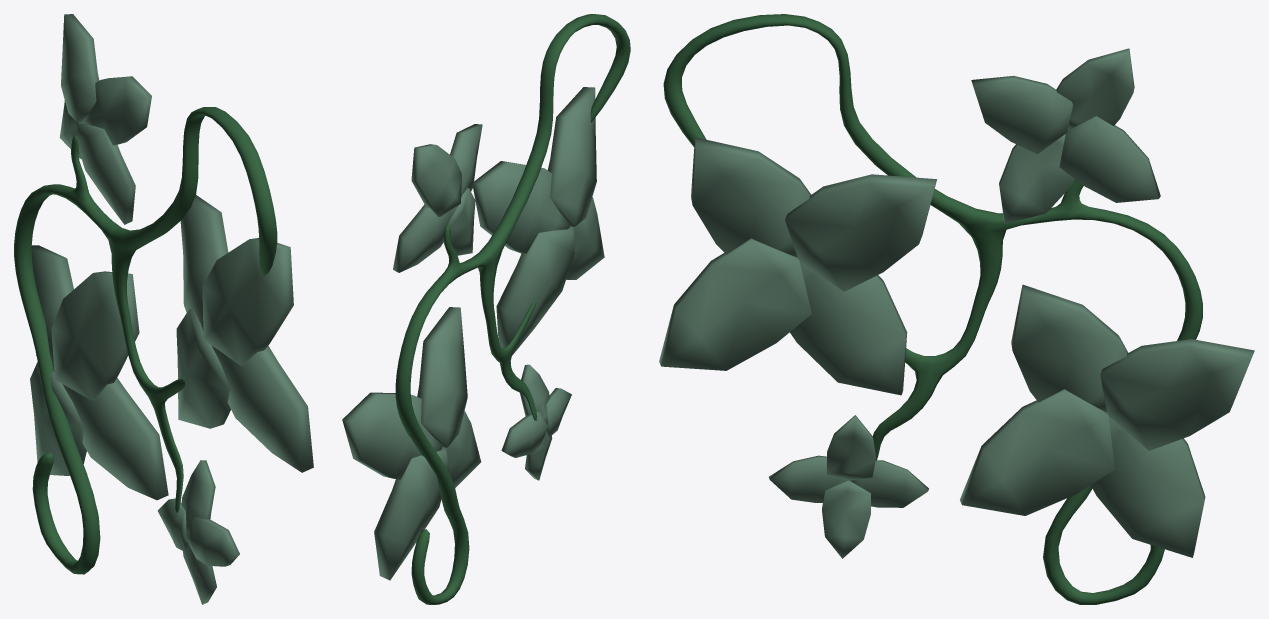
Rendered from WallPlant.fbx.
The picture shows the model from 3 angles, left to right: view 1: azimuth 30°, elevation 25°; view 2: azimuth 150°, elevation 25°; view 3: azimuth 270°, elevation 25°; orthographic projection. The views are drawn at different scales.
Parts seen in each view (by area): view 1: Flower.002, Vine, Flower, Flower.003, Flower.001; view 2: Flower.002, Flower, Vine, Flower.003, Flower.001; view 3: Flower.002, Flower, Vine, Flower.003, Flower.001.
Boxes of the visible parts, x1=… form: Flower.002: x1=176, y1=195, x2=313, y2=472; Vine: x1=14, y1=107, x2=277, y2=574; Flower: x1=30, y1=245, x2=168, y2=500; Flower.003: x1=59, y1=14, x2=151, y2=224; Flower.001: x1=157, y1=460, x2=239, y2=604; Flower.002: x1=473, y1=87, x2=604, y2=355; Flower: x1=342, y1=307, x2=481, y2=580; Vine: x1=395, y1=14, x2=630, y2=604; Flower.003: x1=393, y1=124, x2=482, y2=272; Flower.001: x1=501, y1=364, x2=571, y2=480; Flower.002: x1=659, y1=137, x2=936, y2=395; Flower: x1=960, y1=284, x2=1254, y2=557; Vine: x1=663, y1=14, x2=1202, y2=604; Flower.003: x1=971, y1=48, x2=1160, y2=223; Flower.001: x1=769, y1=415, x2=928, y2=558.
Size of the model in its own units: 0.9145 by 7.58 by 8.26.
